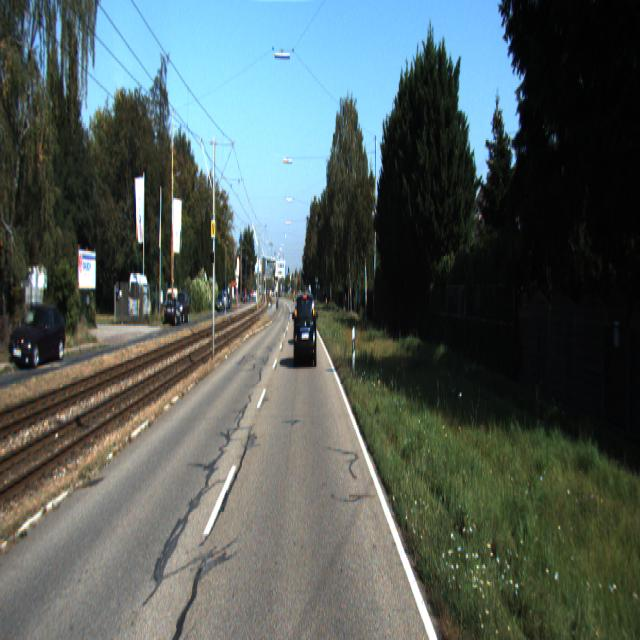Car: (12, 305, 66, 373), (294, 290, 317, 368), (128, 272, 153, 324), (164, 297, 184, 327)
DontCare: (239, 277, 283, 306), (214, 268, 231, 316)
